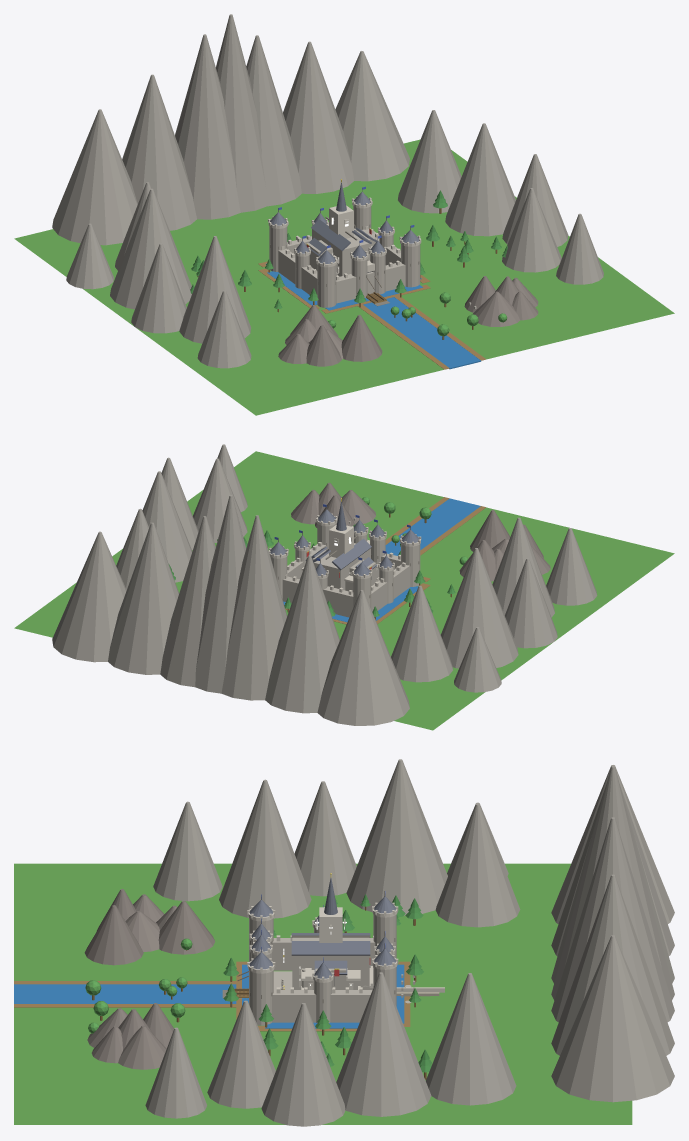
File: tower.glb
The picture shows the model from 3 angles, top to bottom: view 1: azimuth 30°, elevation 25°; view 2: azimuth 150°, elevation 25°; view 3: azimuth 270°, elevation 25°; orthographic projection. The views are drawn at different scales.
Parts seen in each view (by area): view 1: Ground, Mt_N1_body, Mt_N5_body, Mt_N3_body, Mt_N0_body, Mt_N6_body, Mt_N4_body, Mt_E0_body, Mt_N2_body, Mt_W0_body, Mt_E4_body, Mt_W2_body (+19 smaller); view 2: Ground, Mt_N5_body, Mt_N1_body, Mt_N0_body, Mt_N3_body, Mt_N6_body, Mt_N4_body, Mt_W0_body, Mt_N2_body, Mt_W4_body, Mt_W1_body, Mt_E0_body (+18 smaller); view 3: Ground, Mt_N6_body, Mt_W0_body, Mt_E0_body, Mt_W2_body, Mt_E4_body, Mt_W4_body, Mt_E1_body, Mt_N3_body, Mt_N2_body, Mt_N4_body, Mt_E2_body (+25 smaller).
Part boxes in pixels (box(x1,y1,x2,y2)): Ground: box(14, 139, 674, 415); Mt_N1_body: box(175, 34, 240, 219); Mt_N5_body: box(52, 109, 137, 245); Mt_N3_body: box(283, 41, 354, 193); Mt_N0_body: box(122, 74, 196, 230); Mt_N6_body: box(335, 51, 409, 181); Mt_N4_body: box(216, 14, 266, 212); Mt_E0_body: box(445, 123, 515, 236); Mt_N2_body: box(246, 35, 301, 206); Mt_W0_body: box(110, 188, 191, 309); Mt_E4_body: box(398, 110, 461, 213); Mt_W2_body: box(179, 236, 250, 343); Ground: box(14, 451, 674, 730); Mt_N5_body: box(317, 590, 409, 725); Mt_N1_body: box(221, 515, 287, 700); Mt_N0_body: box(265, 555, 339, 713); Mt_N3_body: box(108, 522, 179, 674); Mt_N6_body: box(52, 531, 126, 662); Mt_N4_body: box(195, 495, 246, 693); Mt_W0_body: box(441, 548, 518, 668); Mt_N2_body: box(160, 516, 215, 687); Mt_W4_body: box(391, 585, 452, 682); Mt_W1_body: box(505, 558, 557, 648); Mt_E0_body: box(142, 471, 192, 582); Ground: box(14, 863, 632, 1124); Mt_N6_body: box(551, 935, 674, 1102); Mt_W0_body: box(346, 759, 447, 915); Mt_E0_body: box(336, 972, 431, 1116); Mt_W2_body: box(219, 779, 311, 918); Mt_E4_body: box(426, 973, 516, 1105); Mt_W4_body: box(435, 803, 520, 927); Mt_E1_body: box(261, 1003, 345, 1126); Mt_N3_body: box(551, 874, 674, 1055); Mt_N2_body: box(551, 817, 674, 1022); Mt_N4_body: box(551, 766, 674, 1000); Mt_E2_body: box(207, 1000, 275, 1108).
Size of the model in its own units: 163 by 69.8 by 171.
